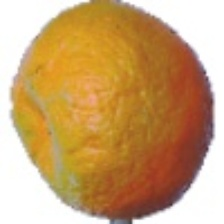tangerine: (26, 46, 203, 207)
